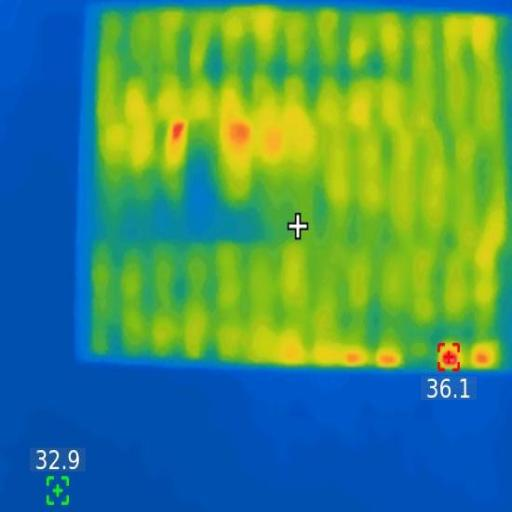hotspot: (439, 339, 461, 370), (166, 114, 188, 142), (233, 126, 249, 148), (478, 350, 490, 368)
